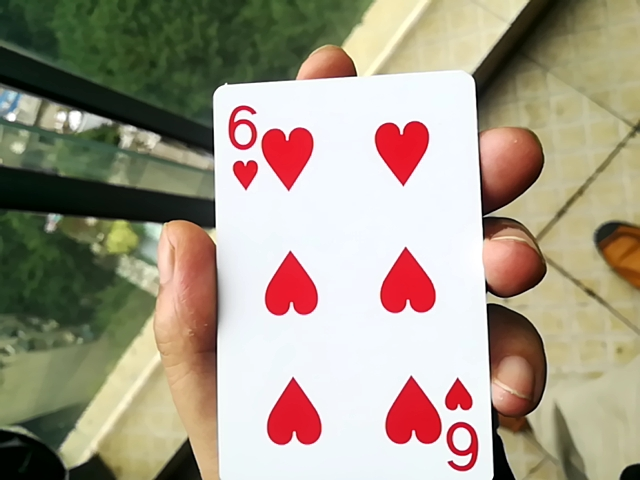hx 6: (201, 58, 501, 480)
